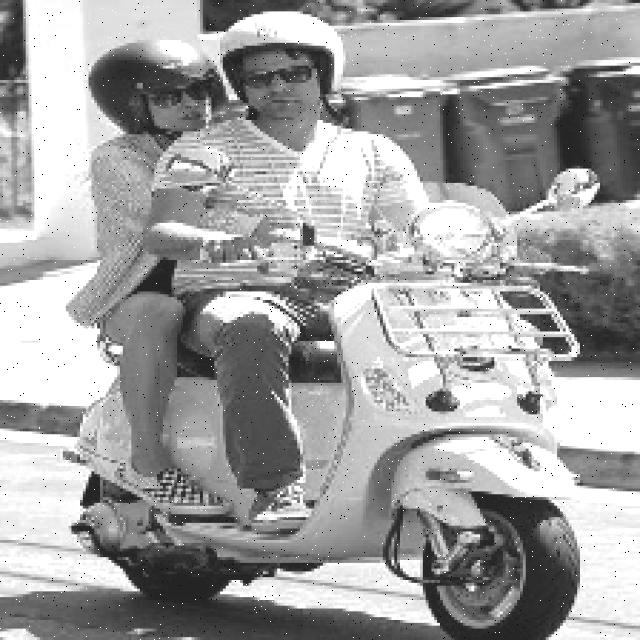Bike: (75, 253, 591, 625)
